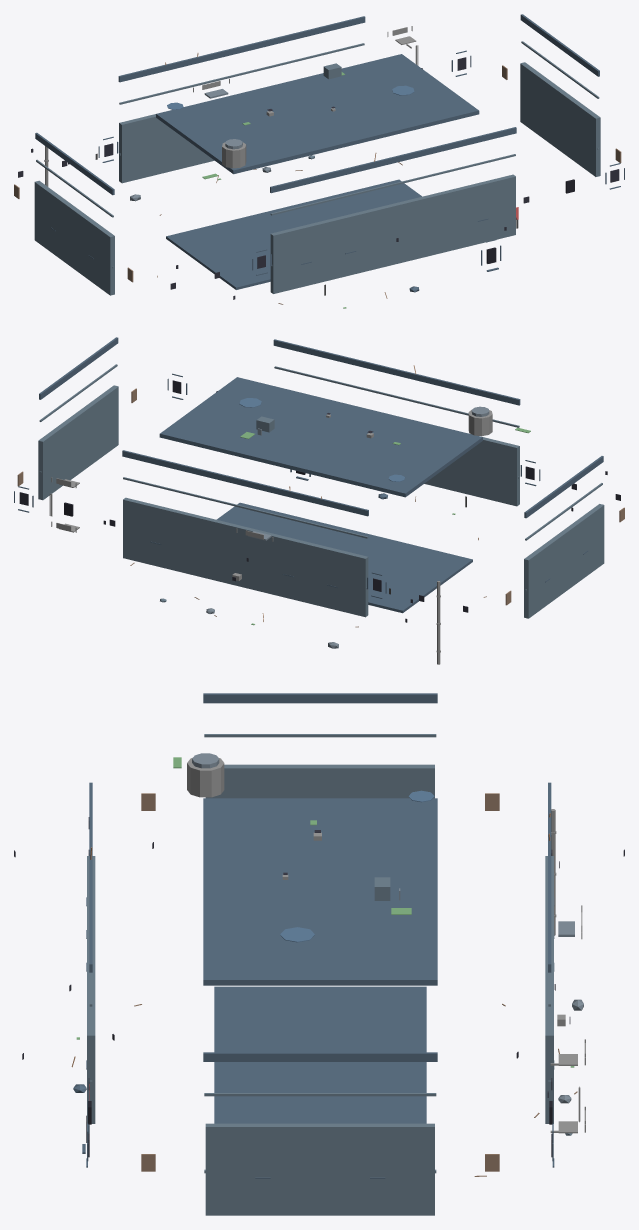
Rendered from building_top_right.glb.
The picture shows the model from 3 angles, top to bottom: view 1: azimuth 30°, elevation 25°; view 2: azimuth 150°, elevation 25°; view 3: azimuth 270°, elevation 25°; orthographic projection. The views are drawn at different scales.
Parts seen in each view (by area): view 1: BuildingMesh; view 2: BuildingMesh; view 3: BuildingMesh.
Part boxes in pixels (bbox=[...]): BuildingMesh: bbox=[14, 14, 624, 308]; BuildingMesh: bbox=[14, 337, 624, 664]; BuildingMesh: bbox=[14, 693, 624, 1215].
Size of the model in its own units: 10.11 by 3.04 by 7.19.
